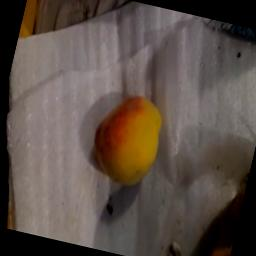Peach Unripe: (71, 79, 183, 200)
